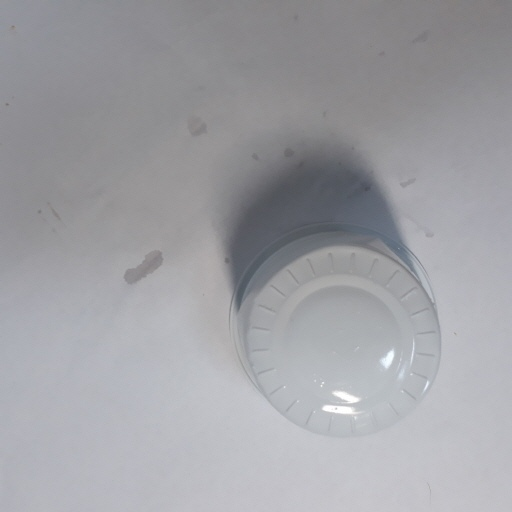Plastic_5: (228, 225, 443, 439)
